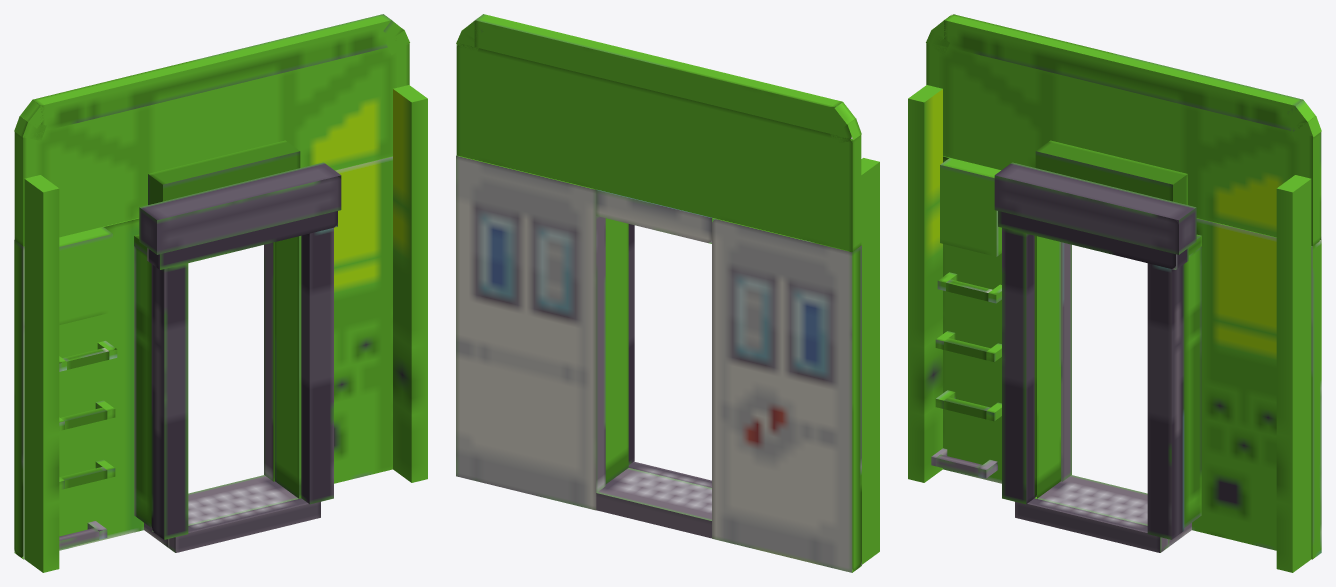
Rendered from end_face_frame.obj.
3 views of the same model, side by side, from view 1: azimuth 30°, elevation 25°; view 2: azimuth 150°, elevation 25°; view 3: azimuth 330°, elevation 25° (orthographic). The views are drawn at different scales.
Visible parts, largest first — view 1: cube; view 2: cube; view 3: cube.
Boxes of the visible parts, x1,y1,x2,y2 form: cube: [14, 14, 427, 572]; cube: [456, 14, 879, 572]; cube: [908, 14, 1321, 572].
Size of the model in its own units: 3 by 3.32 by 0.5594.
